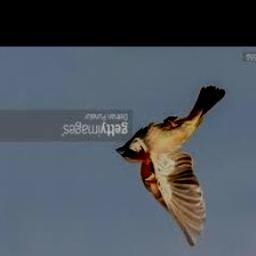Sparrow: (117, 86, 226, 247)
